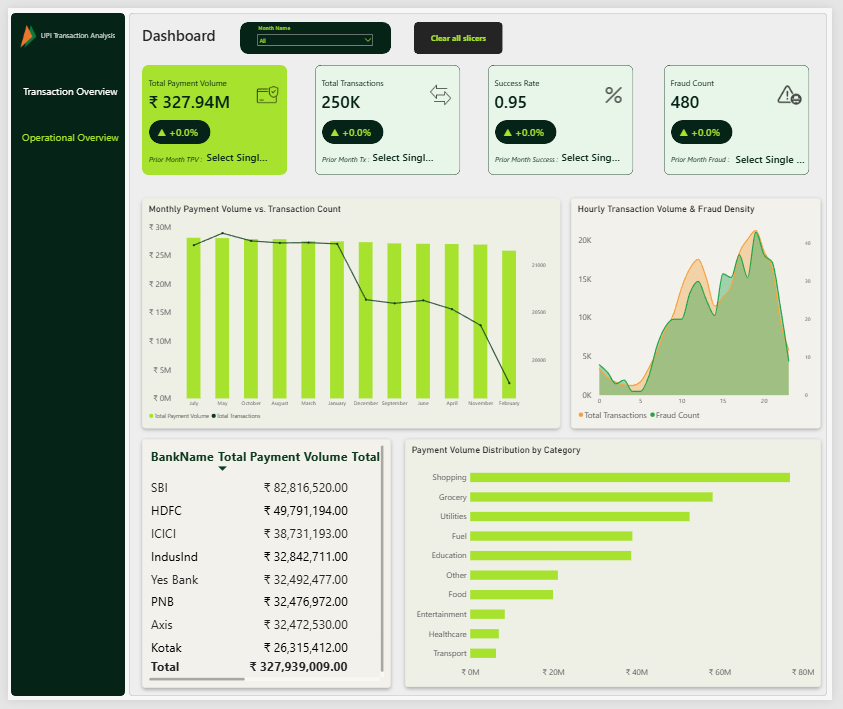

What the dashboard file says about the page in this screenshot:
{"tool":"powerbi","page":{"name":"Transaction Overview","canvas":[2060,1730],"ordinal":0},"visuals":[{"type":"shape","box":[7.5,12.5,285,1707.5],"z":0},{"type":"shape","box":[335,142.6,363,275],"z":0,"group":"g1"},{"type":"shape","box":[768.6,142.6,363,275],"z":0,"group":"g2"},{"type":"shape","box":[1200,142.6,363,275],"z":0,"group":"g3"},{"type":"shape","box":[1640,142.6,363,275],"z":0,"group":"g4"},{"type":"shape","box":[302.5,12.5,1745,1707.5],"z":1000},{"type":"cardVisual","fields":{"Data":["Key_Measures.Total Payment Volume"]},"box":[335,142.6,362.5,152.5],"z":1000,"group":"g1"},{"type":"cardVisual","fields":{"Data":["Key_Measures.Total Transactions"]},"box":[768.6,142.6,362.5,152.5],"z":1000,"group":"g2"},{"type":"cardVisual","fields":{"Data":["Key_Measures.Success Rate"]},"box":[1200,142.6,362.5,152.5],"z":1000,"group":"g3"},{"type":"cardVisual","fields":{"Data":["Key_Measures.Fraud Count"]},"box":[1640,142.6,362.5,152.5],"z":1000,"group":"g4"},{"type":"image","box":[20.3,42.4,61.7,56.7],"z":2000},{"type":"shape","box":[351.5,279.3,153.8,60],"z":2000,"group":"g1"},{"type":"shape","box":[785.1,279.3,153.8,60],"z":2000,"group":"g2"},{"type":"shape","box":[1216.5,279.3,153.8,60],"z":2000,"group":"g3"},{"type":"shape","box":[1656.5,279.3,153.8,60],"z":2000,"group":"g4"},{"type":"textbox","box":[81.9,55.8,300,63.3],"z":3000},{"type":"cardVisual","fields":{"Data":["Key_Measures.TPV MoM Growth"]},"box":[358.5,270.9,147.3,76.4],"z":3000,"group":"g1"},{"type":"cardVisual","fields":{"Data":["Key_Measures.Tx MoM Growth"]},"box":[792.1,270.9,147.3,76.4],"z":3000,"group":"g2"},{"type":"cardVisual","fields":{"Data":["Key_Measures.Success Rate MoM Growth"]},"box":[1223.5,270.9,147.3,76.4],"z":3000,"group":"g3"},{"type":"cardVisual","fields":{"Data":["Key_Measures.Fraud MoM Growth"]},"box":[1663.5,270.9,147.3,76.4],"z":3000,"group":"g4"},{"type":"textbox","box":[333.8,42.3,300,63.3],"z":4000},{"type":"shape","box":[351.5,339.3,300,72.5],"z":4000,"group":"g1"},{"type":"shape","box":[785.1,339.3,300,72.5],"z":4000,"group":"g2"},{"type":"shape","box":[1216.5,339.3,300,72.5],"z":4000,"group":"g3"},{"type":"shape","box":[1656.5,339.3,300,72.5],"z":4000,"group":"g4"},{"type":"shape","box":[580,34,378,80],"z":5000},{"type":"cardVisual","fields":{"Data":["Key_Measures.Prior Month TPV Label"]},"box":[481,333.4,188,80],"z":5000,"group":"g1"},{"type":"cardVisual","fields":{"Data":["Key_Measures.Prior Month Tx Label"]},"box":[895.5,333.4,196,80],"z":5000,"group":"g2"},{"type":"cardVisual","fields":{"Data":["Key_Measures.Prior Month Success Rate Label"]},"box":[1368,333.4,182,80],"z":5000,"group":"g3"},{"type":"cardVisual","fields":{"Data":["Key_Measures.Prior Month Fraud Label"]},"box":[1801.2,338.1,213.8,76.2],"z":5000,"group":"g4"},{"type":"slicer","fields":{"Values":["Dim_Calendar.Month Name"]},"box":[618.3,41.7,300,88.3],"z":6000},{"type":"group","id":"g1","title":"TPV_KPI","box":[335,142.6,363,275],"z":7000},{"type":"group","id":"g2","title":"TK_KPI","box":[768.6,142.6,363,275],"z":8000},{"type":"group","id":"g3","title":"Success_KPI","box":[1200,142.6,363,275],"z":9000},{"type":"group","id":"g4","title":"Fraud_KPI","box":[1640,142.6,375,275],"z":10000},{"type":"lineStackedColumnComboChart","title":"Monthly Payment Volume vs. Transaction Count","fields":{"Category":["Dim_Calendar.Month Name"],"Y":["Key_Measures.Total Payment Volume"],"Y2":["Key_Measures.Total Transactions"]},"box":[336,476,1046,576],"z":11000},{"type":"clusteredBarChart","title":"Payment Volume Distribution by Category","fields":{"Category":["fact_upi_transactions.merchant_category"],"Y":["Key_Measures.Total Payment Volume"]},"box":[992.5,1077.5,1040,620],"z":12000},{"type":"pivotTable","fields":{"Rows":["Dim_Bank.BankName"],"Values":["Key_Measures.Total Payment Volume","Key_Measures.Total Transactions","Key_Measures.Fraud Count","Key_Measures.Success Rate"]},"box":[336,1078,622,622],"z":13000},{"type":"areaChart","title":"Hourly Transaction Volume & Fraud Density","fields":{"Category":["fact_upi_transactions.hour_of_day"],"Y":["Key_Measures.Total Transactions"],"Y2":["Key_Measures.Fraud Count"]},"box":[1408,476,624,576],"z":14000},{"type":"actionButton","box":[1016,34,222,80],"z":15000},{"type":"pageNavigator","box":[10,155,292.5,220],"z":16000}]}

Visuals, with their boxes on the page's 2060x1730 design canvas (x1, y1, x2, y2). These are canvas units, not pixel positions in the 843x709 screenshot, which may show the page scaled, cropped or inside an application window:
shape: x1=8 y1=12 x2=292 y2=1720
shape: x1=335 y1=143 x2=698 y2=418
shape: x1=769 y1=143 x2=1132 y2=418
shape: x1=1200 y1=143 x2=1563 y2=418
shape: x1=1640 y1=143 x2=2003 y2=418
shape: x1=302 y1=12 x2=2048 y2=1720
cardVisual - Key_Measures.Total Payment Volume: x1=335 y1=143 x2=698 y2=295
cardVisual - Key_Measures.Total Transactions: x1=769 y1=143 x2=1131 y2=295
cardVisual - Key_Measures.Success Rate: x1=1200 y1=143 x2=1562 y2=295
cardVisual - Key_Measures.Fraud Count: x1=1640 y1=143 x2=2002 y2=295
image: x1=20 y1=42 x2=82 y2=99
shape: x1=352 y1=279 x2=505 y2=339
shape: x1=785 y1=279 x2=939 y2=339
shape: x1=1216 y1=279 x2=1370 y2=339
shape: x1=1656 y1=279 x2=1810 y2=339
textbox: x1=82 y1=56 x2=382 y2=119
cardVisual - Key_Measures.TPV MoM Growth: x1=358 y1=271 x2=506 y2=347
cardVisual - Key_Measures.Tx MoM Growth: x1=792 y1=271 x2=939 y2=347
cardVisual - Key_Measures.Success Rate MoM Growth: x1=1224 y1=271 x2=1371 y2=347
cardVisual - Key_Measures.Fraud MoM Growth: x1=1664 y1=271 x2=1811 y2=347
textbox: x1=334 y1=42 x2=634 y2=106
shape: x1=352 y1=339 x2=652 y2=412
shape: x1=785 y1=339 x2=1085 y2=412
shape: x1=1216 y1=339 x2=1516 y2=412
shape: x1=1656 y1=339 x2=1956 y2=412
shape: x1=580 y1=34 x2=958 y2=114
cardVisual - Key_Measures.Prior Month TPV Label: x1=481 y1=333 x2=669 y2=413
cardVisual - Key_Measures.Prior Month Tx Label: x1=896 y1=333 x2=1092 y2=413
cardVisual - Key_Measures.Prior Month Success Rate Label: x1=1368 y1=333 x2=1550 y2=413
cardVisual - Key_Measures.Prior Month Fraud Label: x1=1801 y1=338 x2=2015 y2=414
slicer - Dim_Calendar.Month Name: x1=618 y1=42 x2=918 y2=130
"TPV_KPI" group: x1=335 y1=143 x2=698 y2=418
"TK_KPI" group: x1=769 y1=143 x2=1132 y2=418
"Success_KPI" group: x1=1200 y1=143 x2=1563 y2=418
"Fraud_KPI" group: x1=1640 y1=143 x2=2015 y2=418
"Monthly Payment Volume vs. Transaction Count" lineStackedColumnComboChart: x1=336 y1=476 x2=1382 y2=1052
"Payment Volume Distribution by Category" clusteredBarChart: x1=992 y1=1078 x2=2032 y2=1698
pivotTable - Dim_Bank.BankName x Key_Measures.Total Payment Volume: x1=336 y1=1078 x2=958 y2=1700
"Hourly Transaction Volume & Fraud Density" areaChart: x1=1408 y1=476 x2=2032 y2=1052
actionButton: x1=1016 y1=34 x2=1238 y2=114
pageNavigator: x1=10 y1=155 x2=302 y2=375
